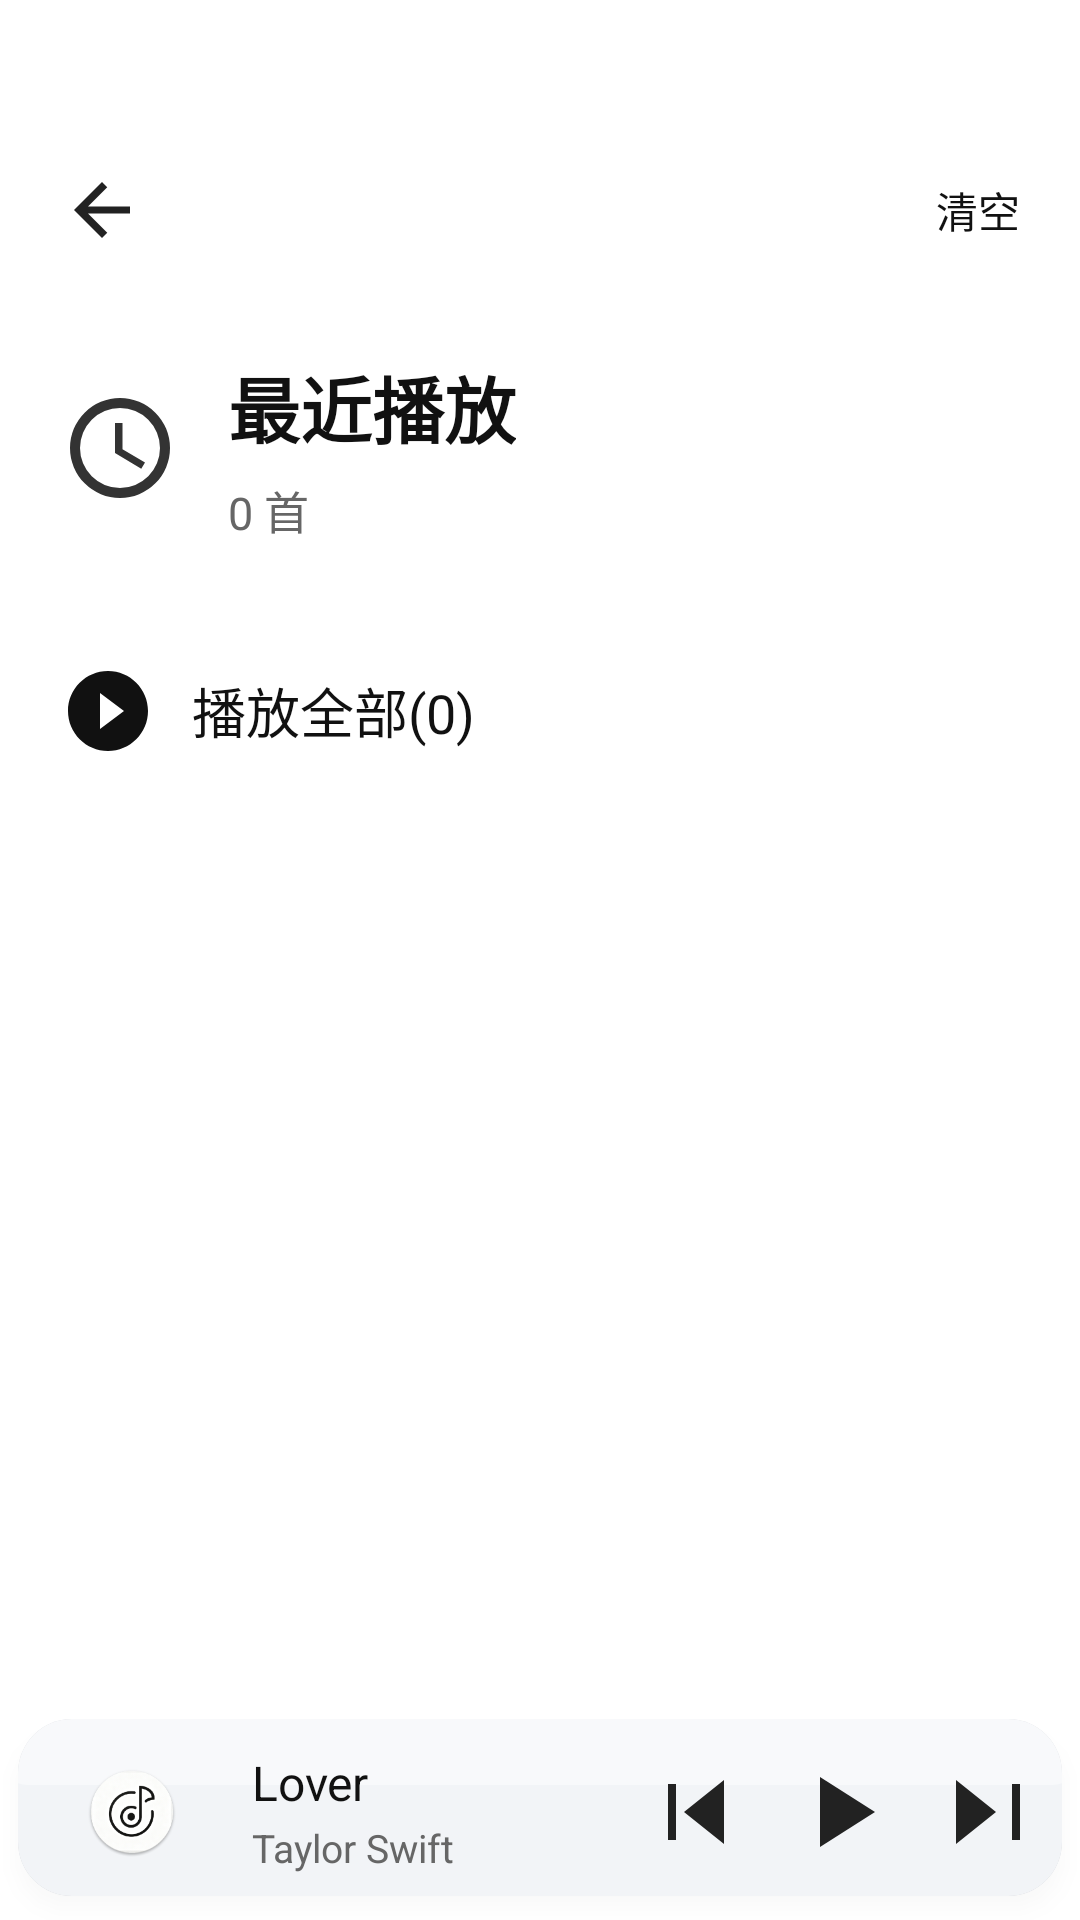

Icons on this 1080px x 1920px Android screen, each with the point to tap as [x,y]:
next: [988,1812]
play circle: [108,711]
play triangle: [847,1812]
prev: [696,1812]
返回上一页: [102,210]
